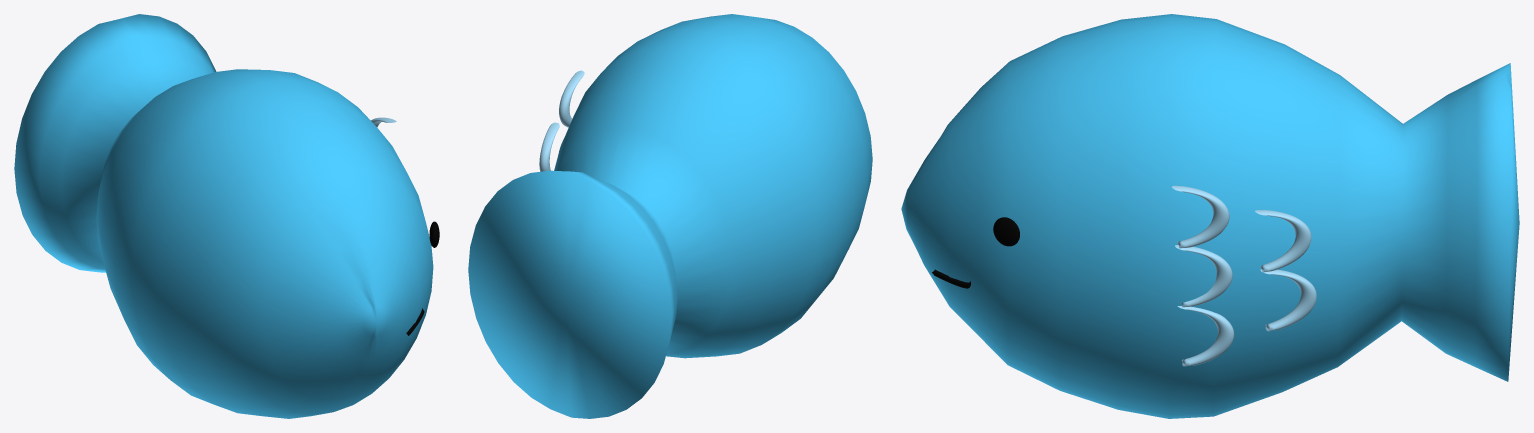
Rendered from fish.gltf.
3 renders of one model, left to right at view 1: azimuth 30°, elevation 25°; view 2: azimuth 150°, elevation 25°; view 3: azimuth 270°, elevation 25°, orthographic. The views are drawn at different scales.
Parts seen in each view (by area): view 1: Sphere.003; view 2: Sphere.003, NurbsCurve.002, NurbsCurve.005; view 3: Sphere.003, NurbsCurve.002, NurbsCurve.005, NurbsCurve.006, NurbsCurve.004, NurbsCurve.003, Sphere.004.
Part boxes in pixels (<box>): Sphere.003: <box>14,14,433,418</box>; Sphere.003: <box>468,14,872,418</box>; NurbsCurve.002: <box>559,70,584,127</box>; NurbsCurve.005: <box>539,122,559,171</box>; Sphere.003: <box>901,14,1519,418</box>; NurbsCurve.002: <box>1172,185,1229,248</box>; NurbsCurve.005: <box>1255,210,1311,272</box>; NurbsCurve.006: <box>1260,269,1316,331</box>; NurbsCurve.004: <box>1177,306,1234,366</box>; NurbsCurve.003: <box>1175,245,1232,307</box>; Sphere.004: <box>993,217,1019,246</box>.
Bounding box in the file's own units: 0.4054 × 0.4625 × 0.6907.
